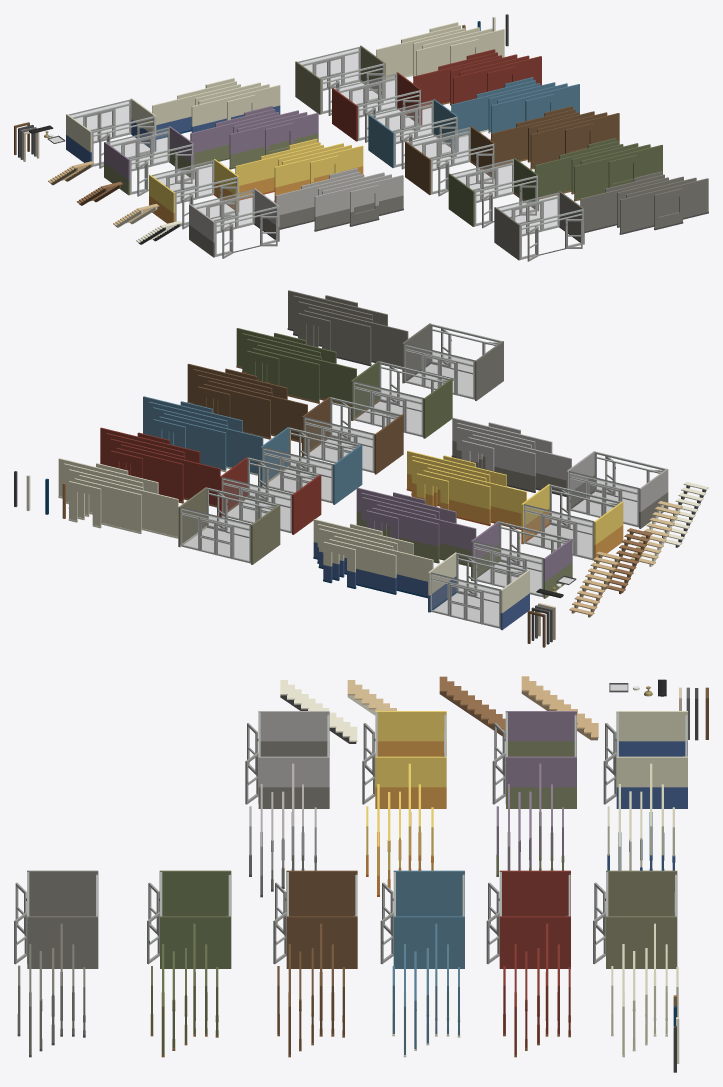
The model's file is buildingModules.fbx.
The picture shows the model from 3 angles, top to bottom: view 1: azimuth 30°, elevation 25°; view 2: azimuth 150°, elevation 25°; view 3: azimuth 270°, elevation 25°; orthographic projection. The views are drawn at different scales.
Visible parts, largest first — view 1: Structure.StartingZone.2ToneGreys, Structure.StartingZone.ConcreteGrey, Structure.StartingZone.DarkGreen, Structure.StartingZone.2TonePurp, Structure.StartingZone.Brown, Structure.StartingZone.Red, Structure.StartingZone.Blue, Structure.StartingZone.LightGreen, Structure.StartingZone.2ToneBlue, Structure.StartingZone.2ToneOrange, Walls.2ToneGreys.Flat, Walls.ConcreteGrey.Flat (+33 smaller); view 2: Structure.StartingZone.LightGreen, Structure.StartingZone.2ToneBlue, Structure.StartingZone.ConcreteGrey, Structure.StartingZone.DarkGreen, Structure.StartingZone.2ToneOrange, Structure.StartingZone.2ToneGreys, Structure.StartingZone.Red, Structure.StartingZone.Blue, Structure.StartingZone.Brown, Structure.StartingZone.2TonePurp, Walls.2ToneBlue.Door.Medium, Walls.Beige.Door.Medium (+46 smaller); view 3: Structure.StartingZone.ConcreteGrey, Structure.StartingZone.DarkGreen, Structure.StartingZone.LightGreen, Structure.StartingZone.Red, Structure.StartingZone.Blue, Structure.StartingZone.Brown, Structure.StartingZone.2TonePurp, Structure.StartingZone.2ToneGreys, Structure.StartingZone.2ToneOrange, Structure.StartingZone.2ToneBlue, Stairs, Stairs.003 (+2 smaller).
Boxes of the visible parts, box(x1,y1,x2,y2) form: Structure.StartingZone.2ToneGreys: box(189, 188, 279, 258); Structure.StartingZone.ConcreteGrey: box(494, 191, 584, 261); Structure.StartingZone.DarkGreen: box(448, 158, 538, 228); Structure.StartingZone.2TonePurp: box(104, 126, 194, 196); Structure.StartingZone.Brown: box(405, 126, 495, 196); Structure.StartingZone.Red: box(332, 72, 422, 142); Structure.StartingZone.Blue: box(368, 99, 458, 169); Structure.StartingZone.LightGreen: box(295, 45, 385, 115); Structure.StartingZone.2ToneBlue: box(66, 98, 156, 168); Structure.StartingZone.2ToneOrange: box(149, 159, 239, 229); Walls.2ToneGreys.Flat: box(314, 175, 403, 231); Walls.ConcreteGrey.Flat: box(619, 178, 708, 234); Structure.StartingZone.LightGreen: box(178, 487, 280, 564); Structure.StartingZone.2ToneBlue: box(428, 552, 529, 630); Structure.StartingZone.ConcreteGrey: box(402, 323, 503, 400); Structure.StartingZone.DarkGreen: box(350, 361, 452, 438); Structure.StartingZone.2ToneOrange: box(521, 484, 623, 561); Structure.StartingZone.2ToneGreys: box(566, 451, 668, 528); Structure.StartingZone.Red: box(219, 457, 321, 534); Structure.StartingZone.Blue: box(260, 427, 362, 504); Structure.StartingZone.Brown: box(302, 396, 403, 474); Structure.StartingZone.2TonePurp: box(471, 521, 572, 598); Walls.2ToneBlue.Door.Medium: box(329, 539, 396, 594); Walls.Beige.Door.Medium: box(74, 478, 141, 533); Structure.StartingZone.ConcreteGrey: box(14, 870, 98, 968); Structure.StartingZone.DarkGreen: box(147, 870, 231, 968); Structure.StartingZone.LightGreen: box(593, 870, 677, 968); Structure.StartingZone.Red: box(486, 870, 570, 968); Structure.StartingZone.Blue: box(380, 870, 464, 968); Structure.StartingZone.Brown: box(273, 870, 357, 968); Structure.StartingZone.2TonePurp: box(492, 711, 576, 808); Structure.StartingZone.2ToneGreys: box(245, 711, 329, 808); Structure.StartingZone.2ToneOrange: box(362, 711, 446, 808); Structure.StartingZone.2ToneBlue: box(603, 711, 687, 808); Stairs: box(439, 676, 505, 737); Stairs.003: box(280, 680, 357, 743).
Size of the model in its own units: 6932 by 5895 by 488.
3 materials, 1 textured.
